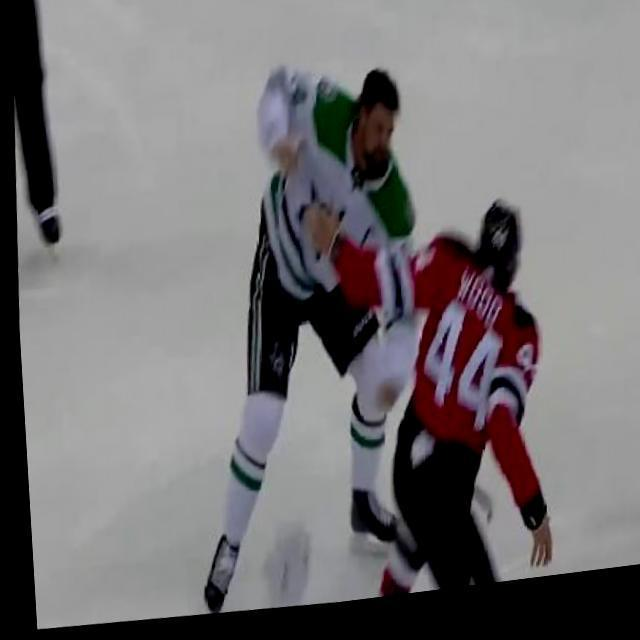fight: (215, 40, 562, 619)
